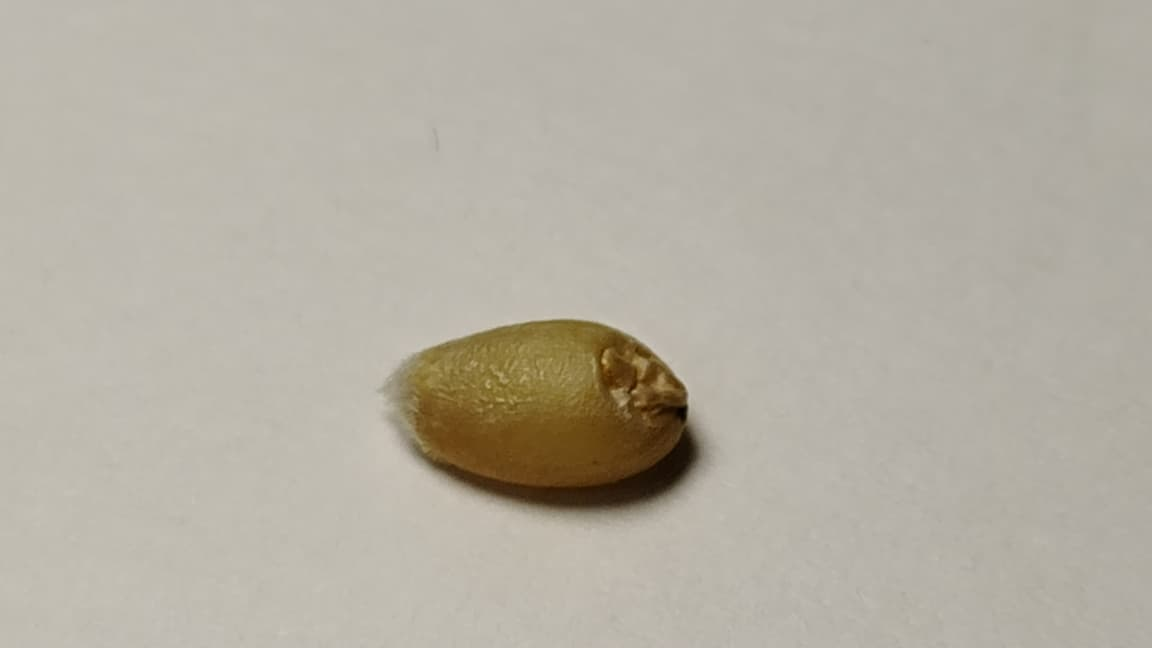healthy: (384, 319, 686, 483)
